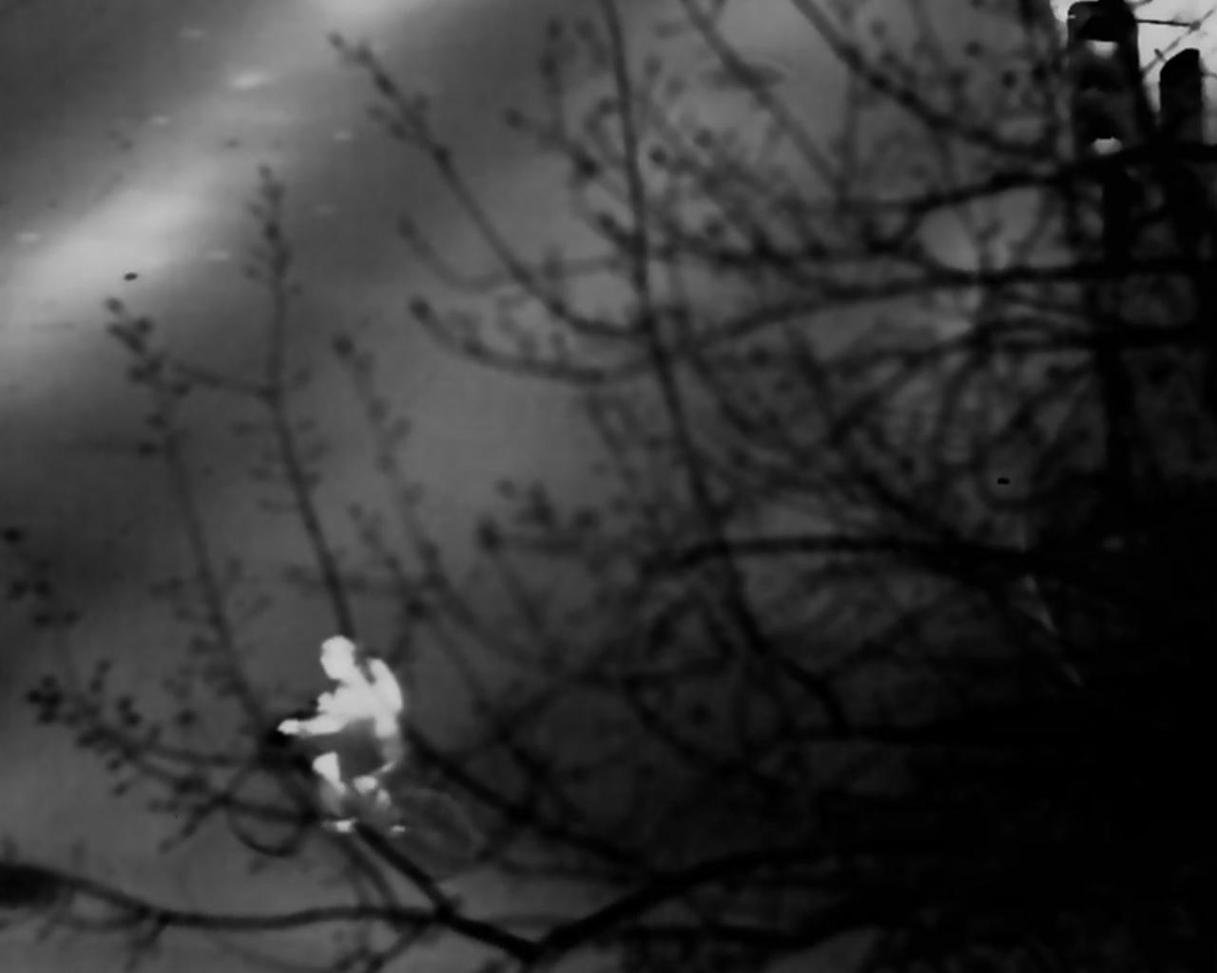person: (290, 628, 415, 834)
